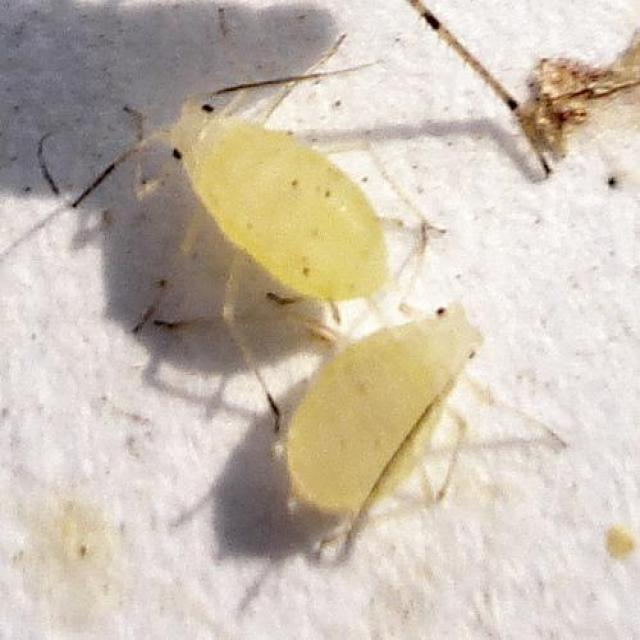Aphids: (123, 81, 398, 319), (267, 291, 521, 543)
